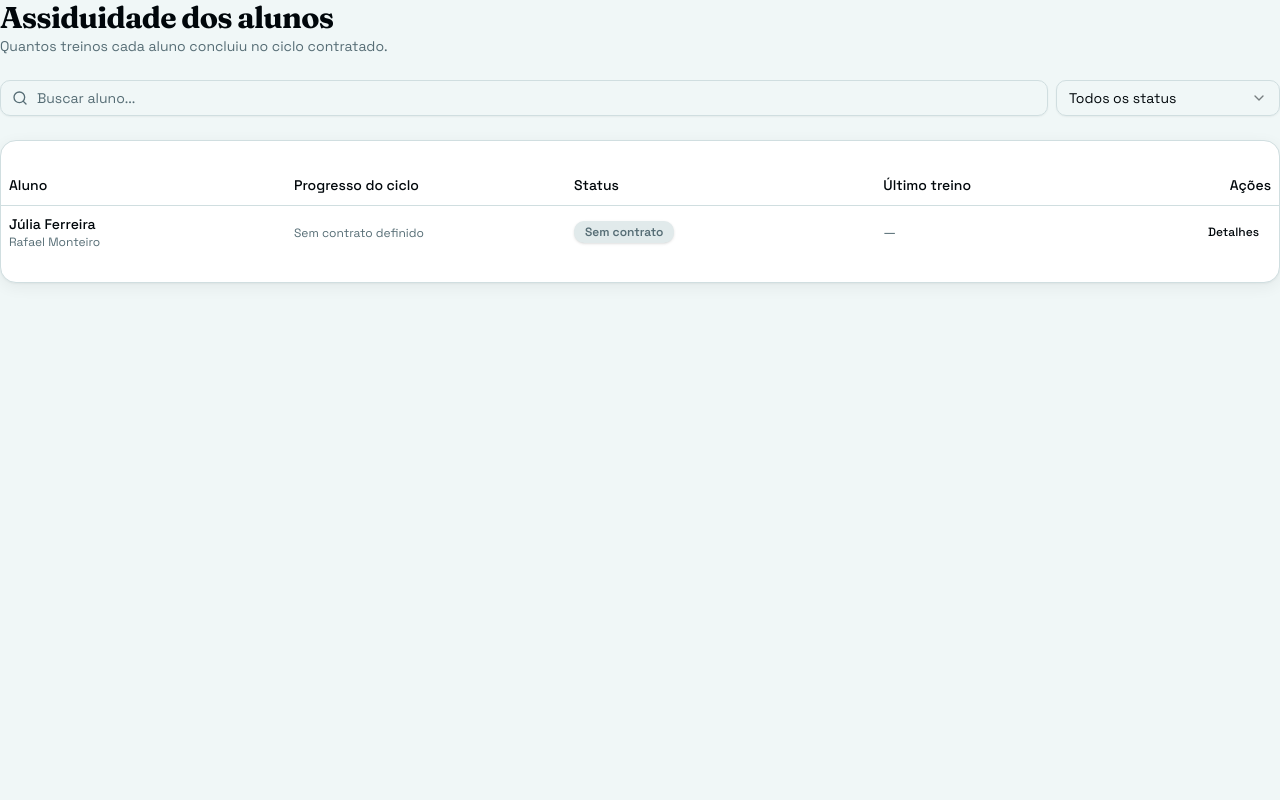
Scenario: AssiduidadeAlunosPage › does not offer a renew action for a student without a contract
Check: the text "Júlia Ferreira" is shown, box left=9, top=214, right=96, bottom=232
Click the button "Detalhes" at [1234, 232], box left=1196, top=216, right=1271, bottom=248
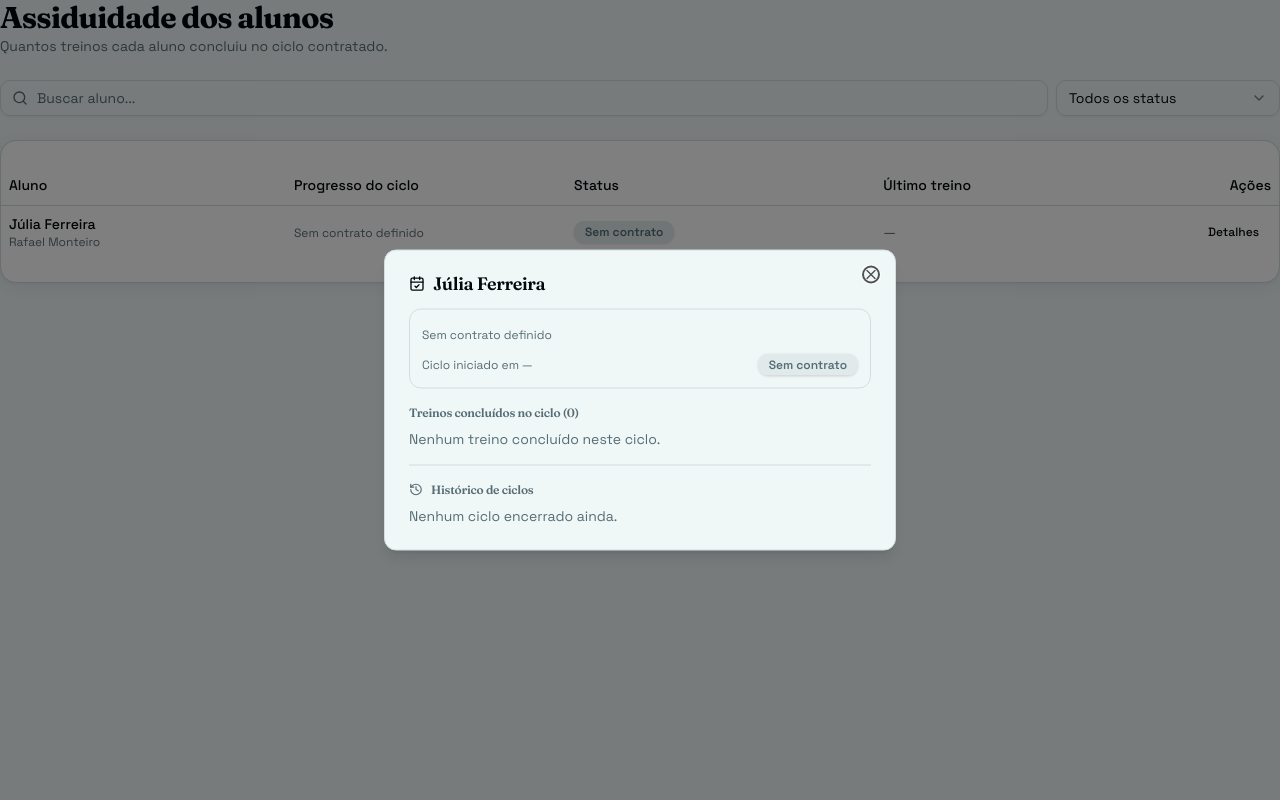
Check: the dialog is shown, box left=384, top=250, right=896, bottom=550
